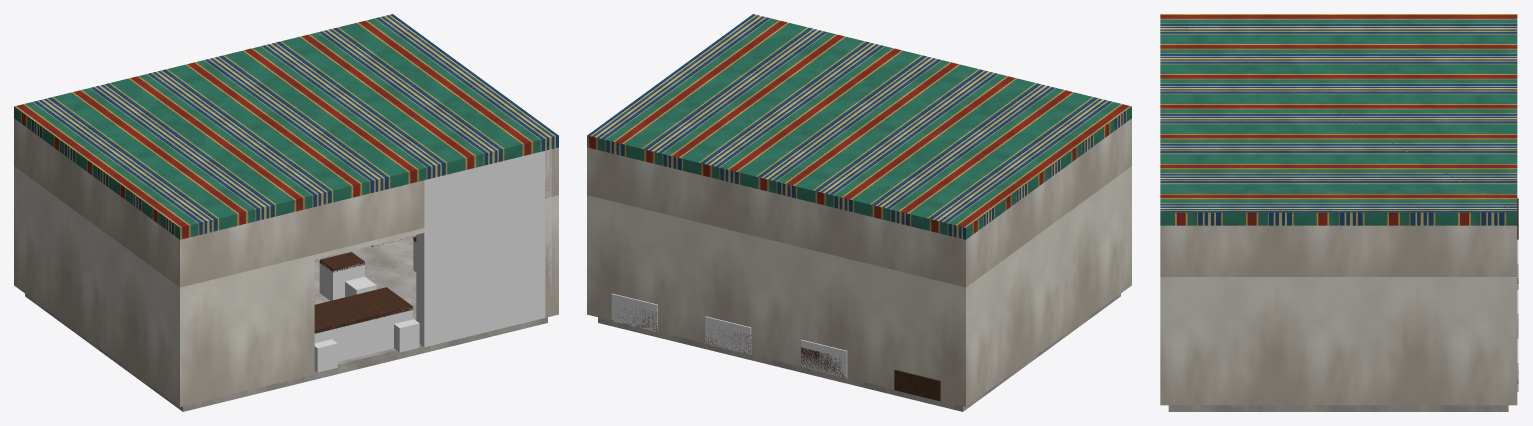
Rendered from disciple_dormitory.glb.
The picture shows the model from 3 angles, left to right: view 1: azimuth 30°, elevation 25°; view 2: azimuth 150°, elevation 25°; view 3: azimuth 270°, elevation 25°; orthographic projection. The views are drawn at different scales.
Visible parts, largest first — view 1: Ceiling, Walls, ShellFront-convcolonly.001, Floor, Table.004, TableCol-convcolonly.004, TableCol-convcolonly.002, StoolCol-convcolonly.005, StoolCol-convcolonly.004, Table.002; view 2: Walls, Ceiling, Floor, BedCol-convcolonly.002, BedCol-convcolonly.003, BedCol-convcolonly.001, BedFrame, BedFrame.001; view 3: Ceiling, Walls, Floor.
Part boxes in pixels (x1,y1,x2,y2): Ceiling: [14, 14, 558, 239]; Walls: [14, 118, 558, 406]; ShellFront-convcolonly.001: [416, 149, 551, 347]; Floor: [25, 237, 547, 411]; Table.004: [314, 287, 412, 333]; TableCol-convcolonly.004: [314, 308, 412, 361]; TableCol-convcolonly.002: [319, 260, 364, 300]; StoolCol-convcolonly.005: [394, 318, 419, 352]; StoolCol-convcolonly.004: [314, 339, 337, 372]; Table.002: [319, 252, 364, 272]; Walls: [587, 118, 1131, 406]; Ceiling: [587, 14, 1131, 239]; Floor: [598, 294, 1120, 411]; BedCol-convcolonly.002: [705, 316, 751, 354]; BedCol-convcolonly.003: [611, 293, 657, 331]; BedCol-convcolonly.001: [801, 339, 847, 378]; BedFrame: [894, 369, 940, 401]; BedFrame.001: [801, 347, 845, 377]; Ceiling: [1160, 14, 1517, 225]; Walls: [1160, 225, 1517, 405]; Floor: [1168, 405, 1508, 411].
Size of what is drawn, in the model's own units: 8.3 by 3.95 by 6.33.
Materials: 5 (4 with a texture image).
